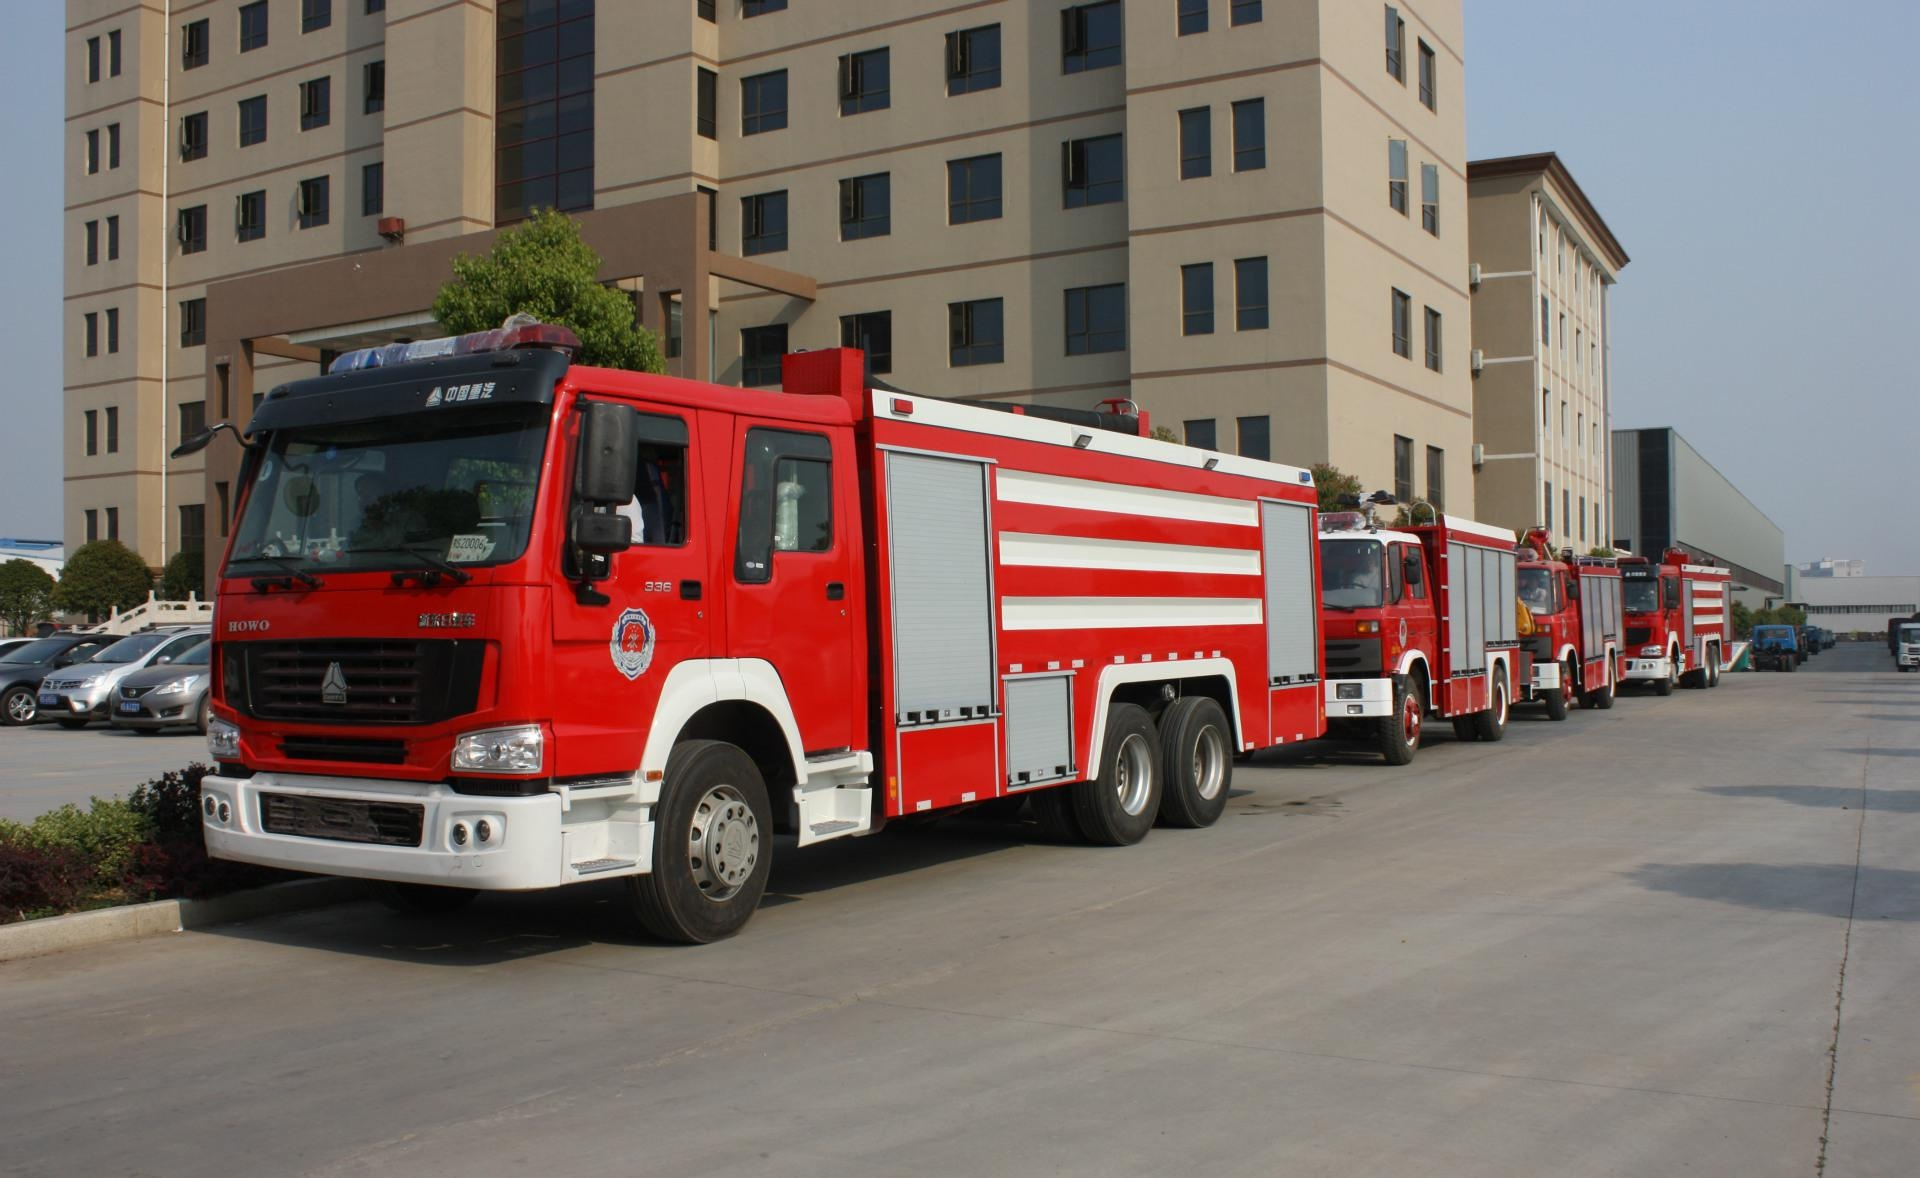fire engine: (165, 289, 1337, 967), (1308, 483, 1529, 754), (1502, 558, 1651, 721)
